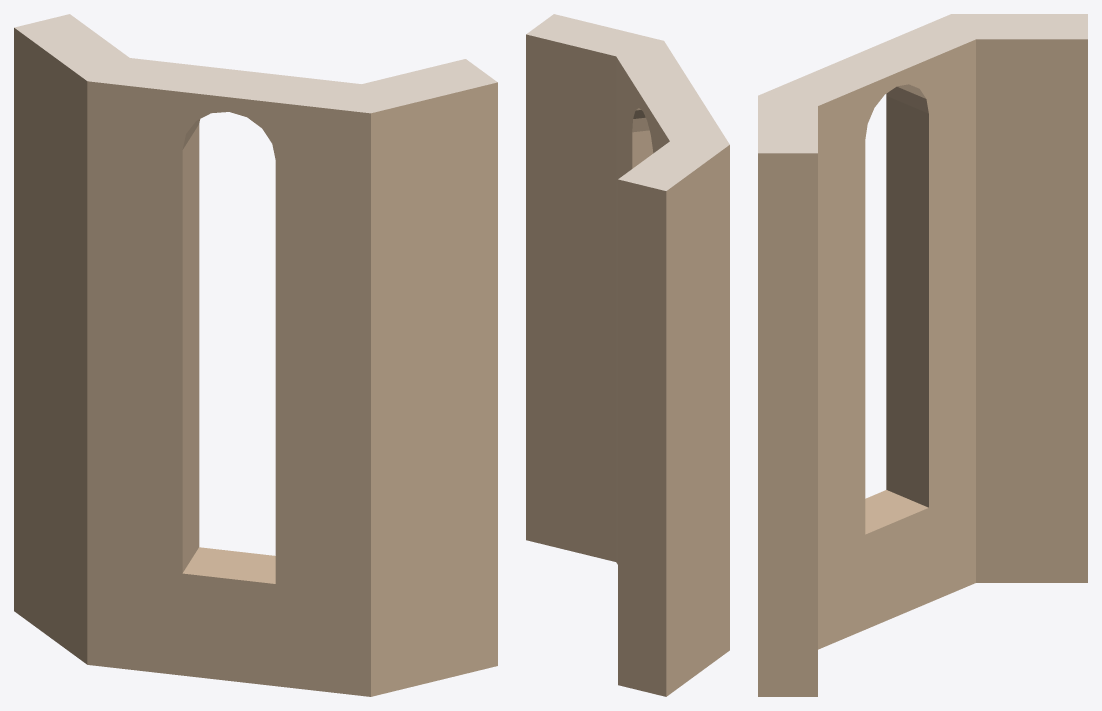
The model's file is Wall_Curved_Small_Window_Tall.fbx.
3 renders of one model, left to right at view 1: azimuth 30°, elevation 25°; view 2: azimuth 150°, elevation 25°; view 3: azimuth 270°, elevation 25°, orthographic. The views are drawn at different scales.
Parts seen in each view (by area): view 1: object1, Sandstone_Floor; view 2: object1, Sandstone_Floor; view 3: object1, Sandstone_Floor.
Boxes of the visible parts, x1=… form: object1: x1=14, y1=28, x2=497, y2=696; Sandstone_Floor: x1=14, y1=14, x2=497, y2=113; object1: x1=526, y1=34, x2=729, y2=696; Sandstone_Floor: x1=526, y1=14, x2=729, y2=190; object1: x1=758, y1=39, x2=1087, y2=696; Sandstone_Floor: x1=758, y1=14, x2=1087, y2=153.
Bounding box in the file's own units: 1.1 × 2 × 1.1.
